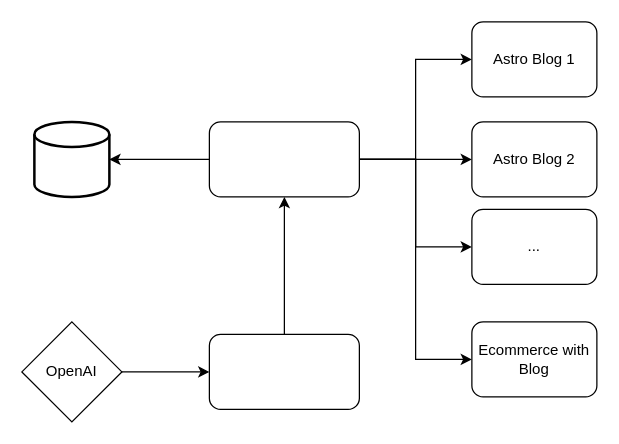
The diagram is 619 pixels wide and 444 high, and some of its shapes have lost their labels. The centre of each missing label's shape, as x and y in pixels:
"AI Content Generator" goes at pixel 283 371.
"multiblog-manager" goes at pixel 283 159.
